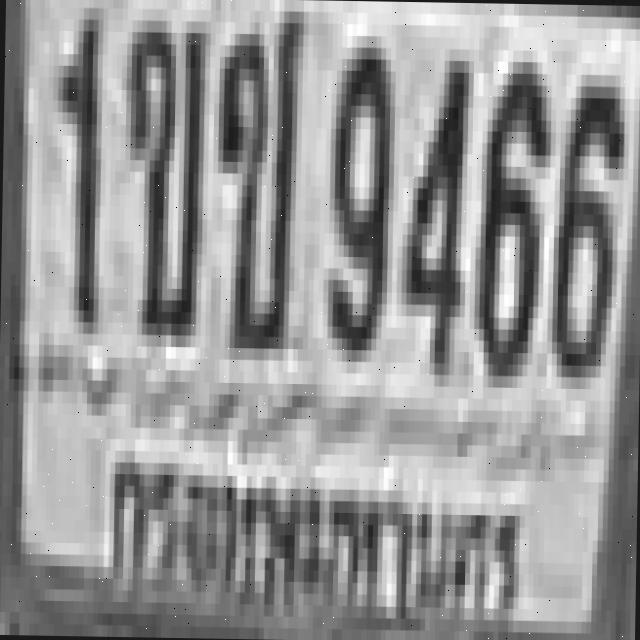1: (54, 6, 98, 322)
11KhorKhai: (120, 8, 203, 335)
19ChorChang: (209, 0, 298, 336)
4: (400, 48, 464, 363)
6: (473, 49, 547, 377), (546, 74, 620, 366)
9: (322, 29, 391, 344)
Bangkok: (106, 436, 522, 636)
